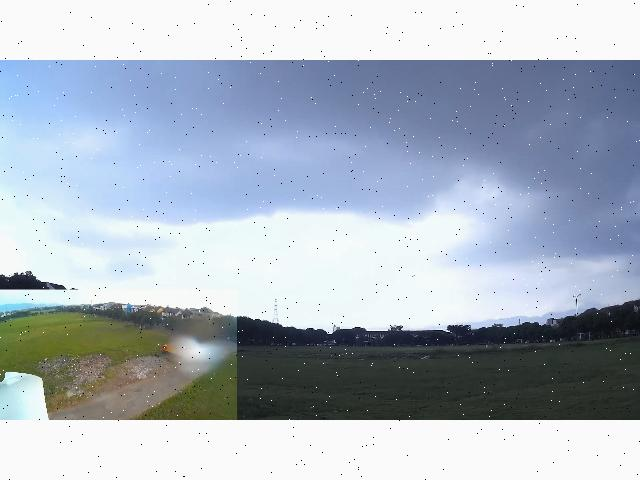Anti-Drone: (406, 272, 420, 284)
